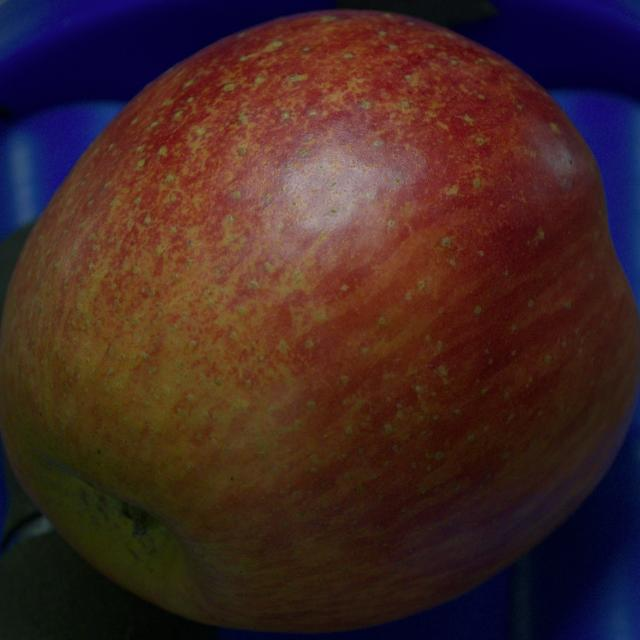apple: (0, 11, 639, 632)
